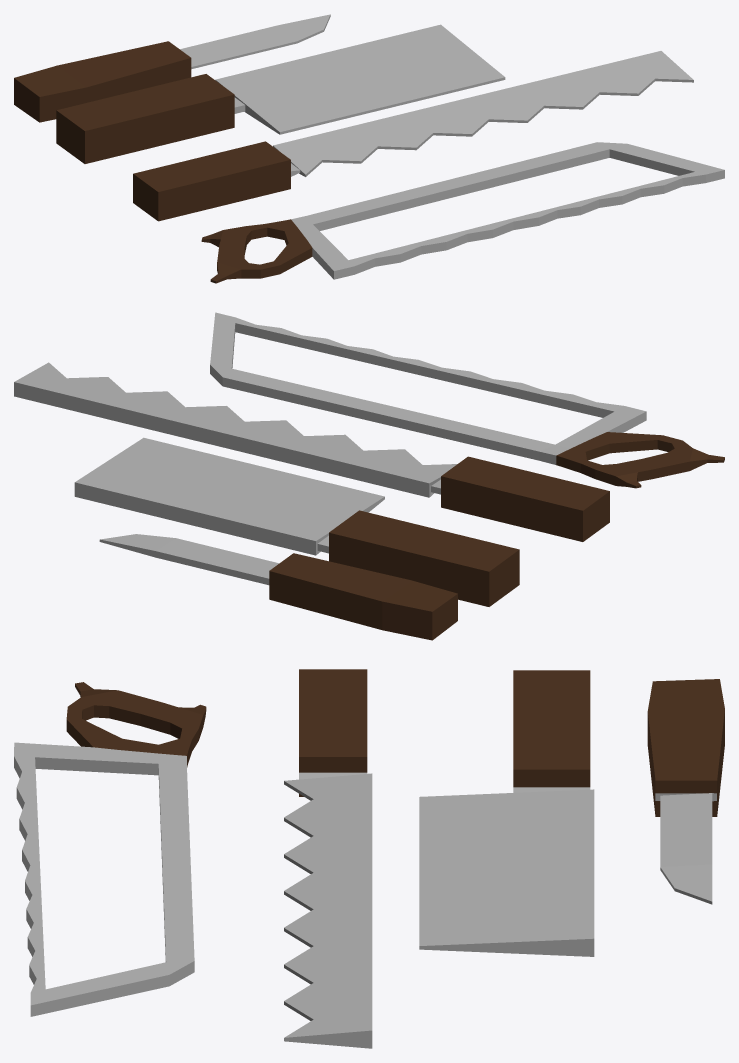
Rendered from knives.fbx.
3 renders of one model, top to bottom at view 1: azimuth 30°, elevation 25°; view 2: azimuth 150°, elevation 25°; view 3: azimuth 270°, elevation 25°, orthographic. The views are drawn at different scales.
Visible parts, largest first — view 1: Cleaver, Saw Knife, Bone Saw, Small Knife; view 2: Cleaver, Saw Knife, Bone Saw, Small Knife; view 3: Cleaver, Saw Knife, Bone Saw, Small Knife.
Boxes of the visible parts, left/top/right/bottom form: Cleaver: left=56, top=24, right=505, bottom=163; Saw Knife: left=133, top=51, right=693, bottom=221; Bone Saw: left=201, top=142, right=724, bottom=283; Small Knife: left=14, top=14, right=330, bottom=122; Cleaver: left=74, top=437, right=519, bottom=606; Saw Knife: left=14, top=362, right=609, bottom=541; Bone Saw: left=210, top=312, right=724, bottom=488; Small Knife: left=99, top=534, right=457, bottom=640; Cleaver: left=419, top=670, right=594, bottom=956; Saw Knife: left=284, top=669, right=372, bottom=1048; Bone Saw: left=14, top=682, right=206, bottom=1016; Small Knife: left=647, top=679, right=724, bottom=904.
Size of the model in its own units: 141 by 8.03 by 115.
